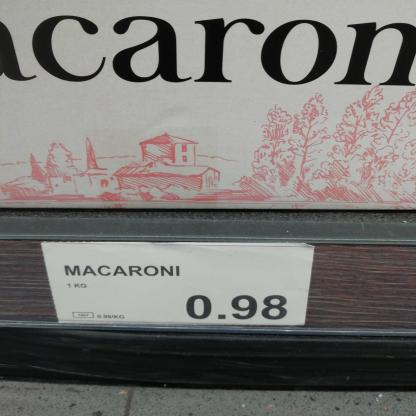prtg: (43, 243, 314, 325)
